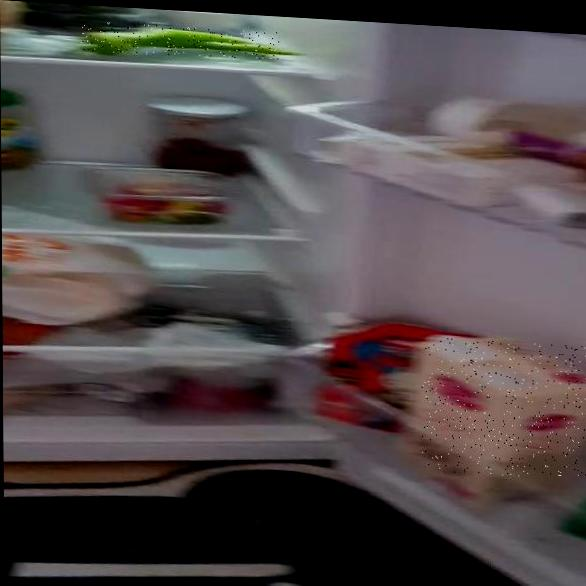green chilies: (81, 21, 281, 63)
milk: (421, 337, 586, 481)
